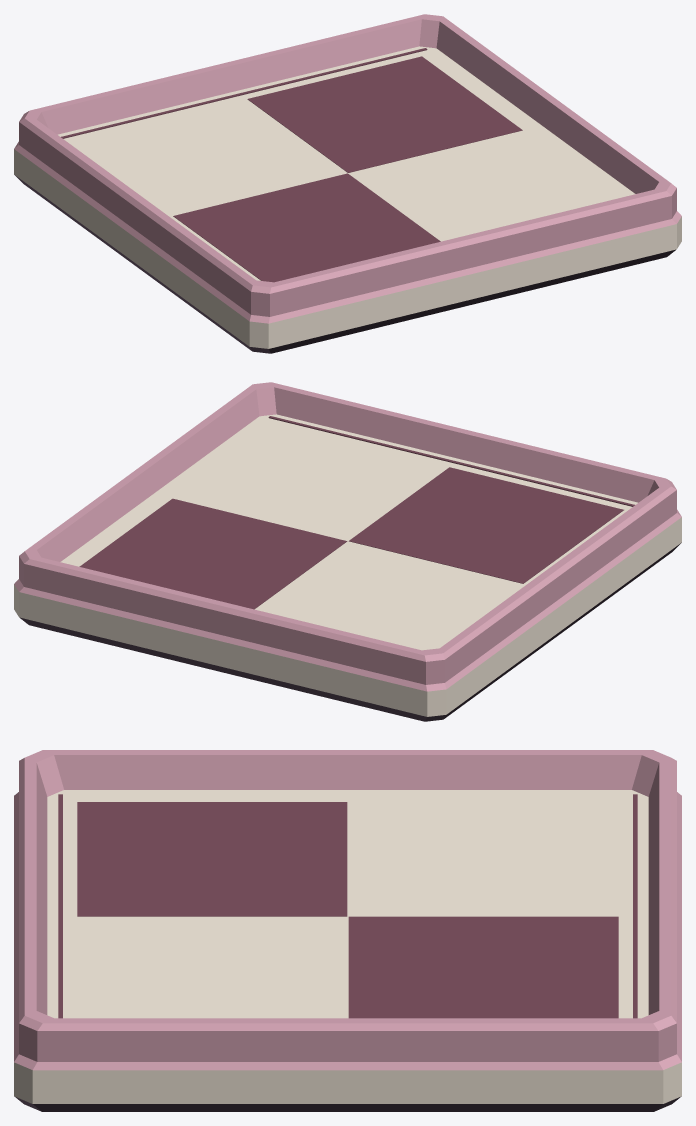
File: stone-threshold.glb
3 renders of one model, top to bottom at view 1: azimuth 30°, elevation 25°; view 2: azimuth 150°, elevation 25°; view 3: azimuth 270°, elevation 25°, orthographic. The views are drawn at different scales.
Parts seen in each view (by area): view 1: platform_mesh; view 2: platform_mesh; view 3: platform_mesh.
Boxes of the visible parts, box(x1,y1,x2,y2) form: platform_mesh: box(14, 14, 681, 353); platform_mesh: box(14, 382, 681, 721); platform_mesh: box(14, 750, 681, 1111).
Bounding box in the file's own units: 5 × 0.8 × 5.
